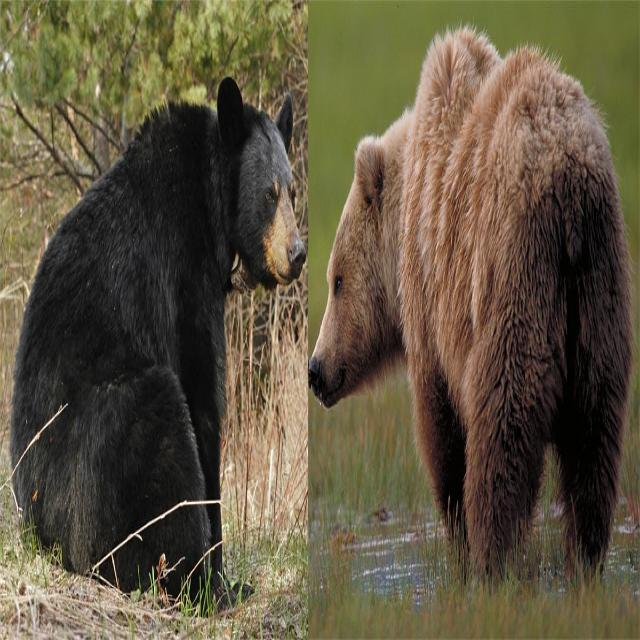Bear: (308, 25, 635, 581), (7, 79, 310, 612)
